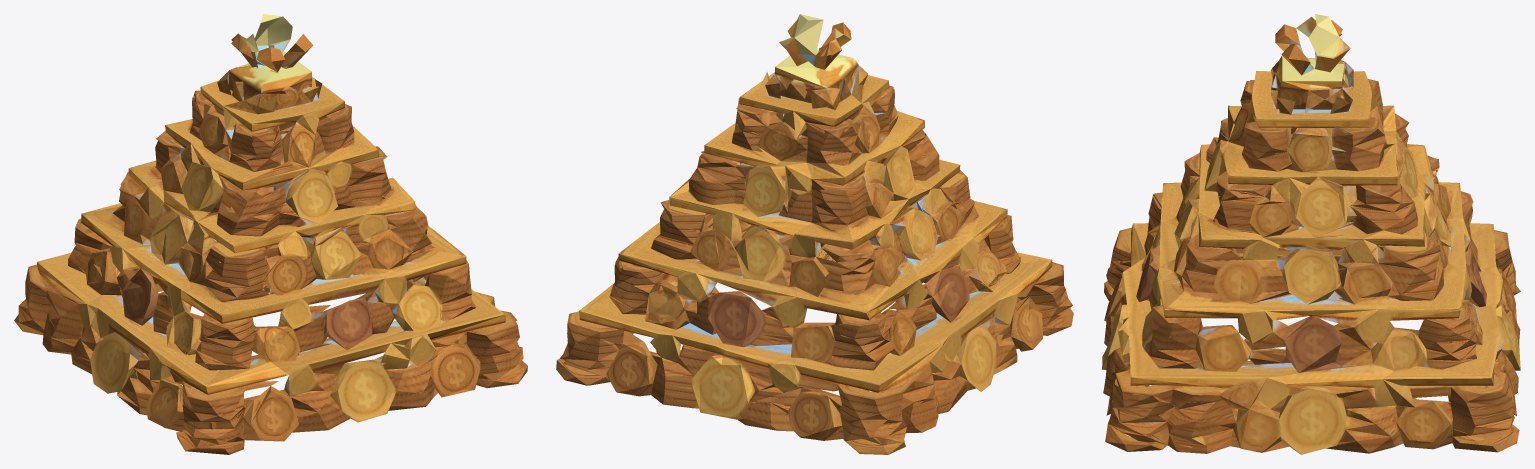
The model's file is ponzi-peaks.glb.
3 renders of one model, left to right at view 1: azimuth 30°, elevation 25°; view 2: azimuth 150°, elevation 25°; view 3: azimuth 270°, elevation 25°, orthographic. The views are drawn at different scales.
Size of the model in its own units: 1.9 by 1.74 by 1.89.
Materials: 1 (1 with a texture image).
